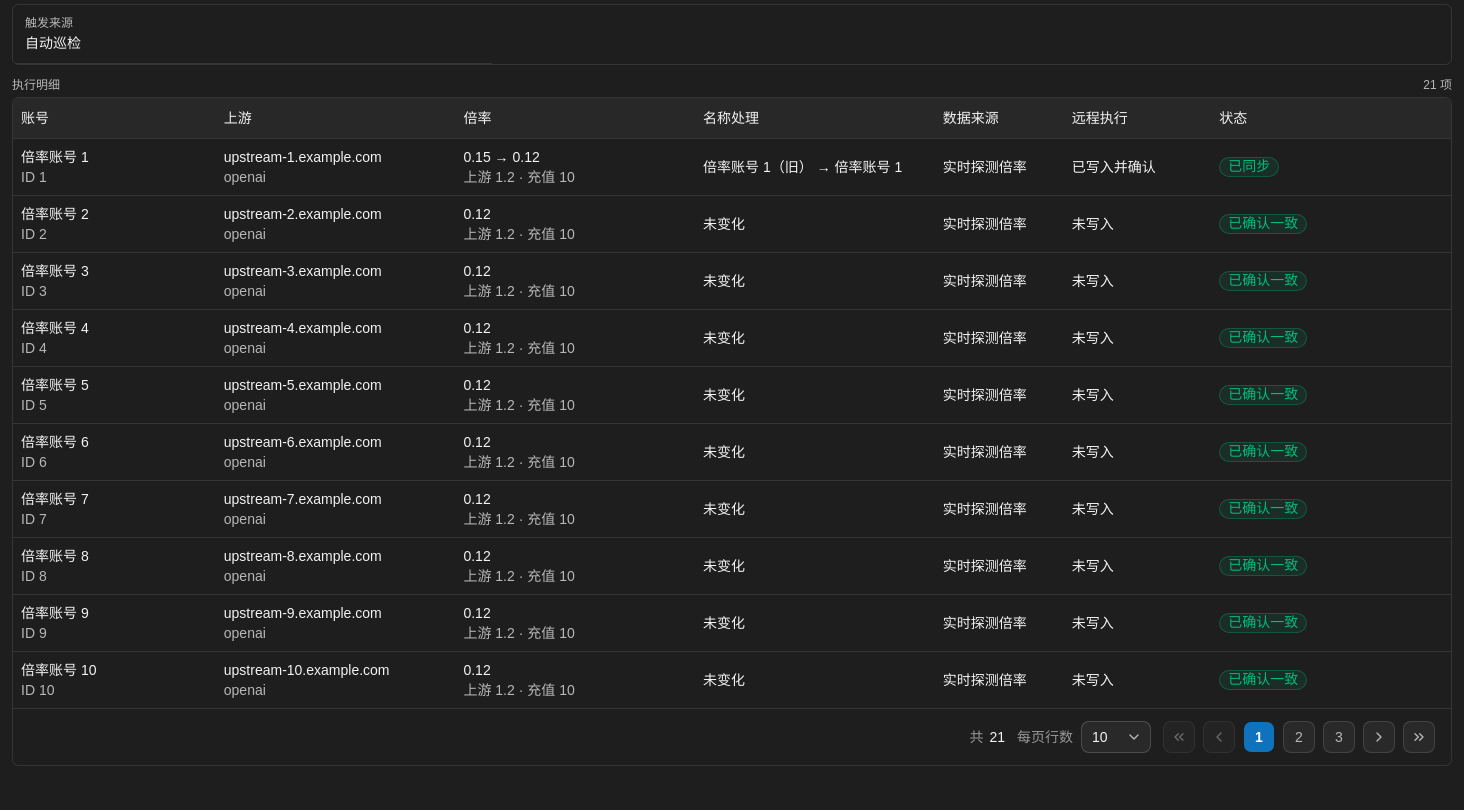
Test: automatic inspection log details › shows large execution item collections immediately and paginates their records
The width and height of the screenshot is (1464, 810).
Check: the text "触发来源" is shown, box left=25, top=16, right=73, bottom=30
Check: the text "自动巡检" is shown, box left=25, top=35, right=81, bottom=51
Click the button named "转到下一页".
click(1379, 736)  # box left=1363, top=720, right=1395, bottom=752
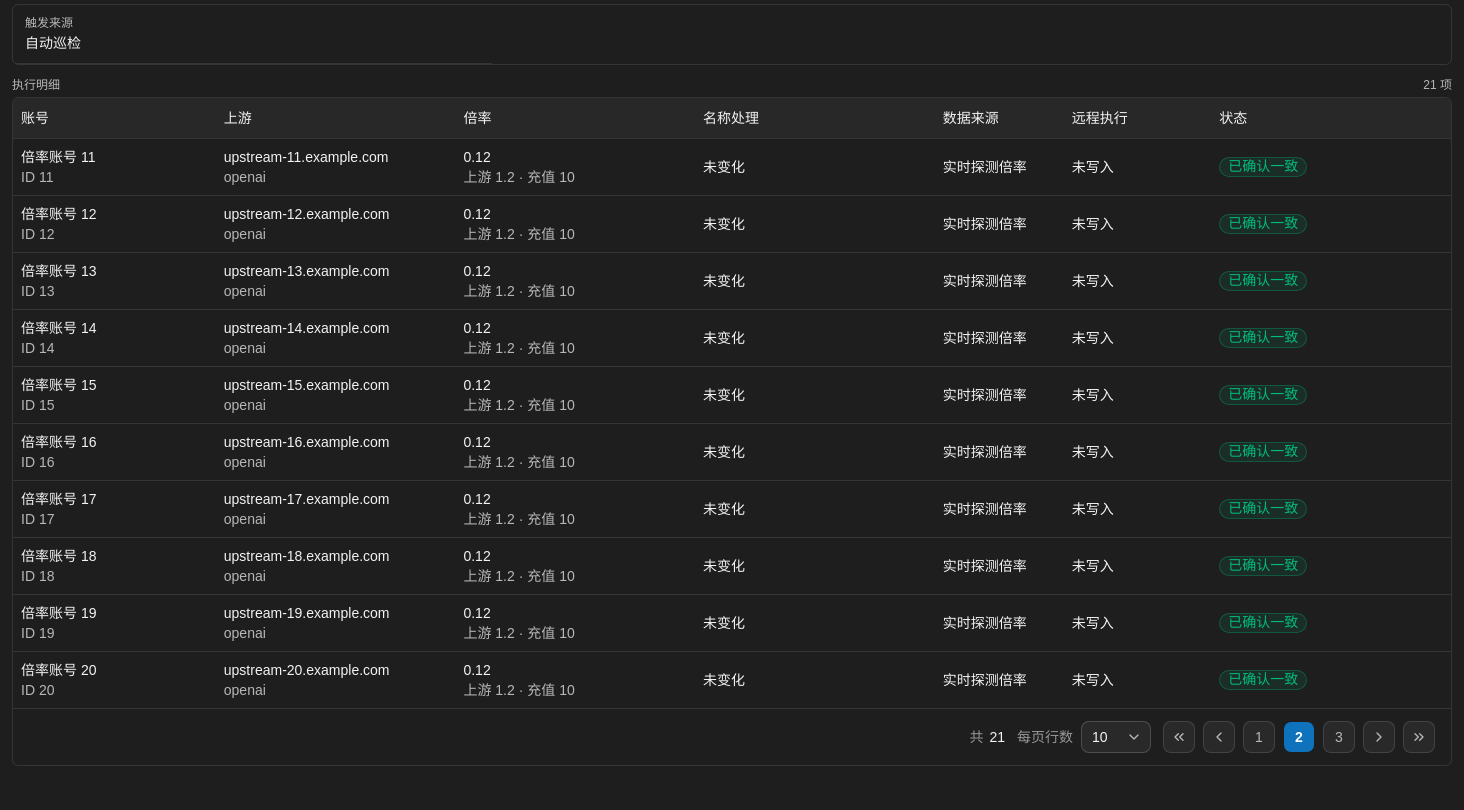
Check: the text "倍率账号 11" is shown, box left=21, top=148, right=95, bottom=164
Check: the text "倍率账号 10" is gone
